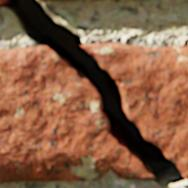broken_brick: (0, 45, 152, 181), (82, 42, 187, 177)
crack: (0, 0, 187, 187)
